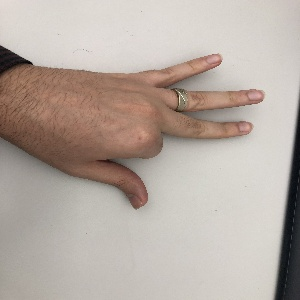hand: (35, 53, 264, 209)
